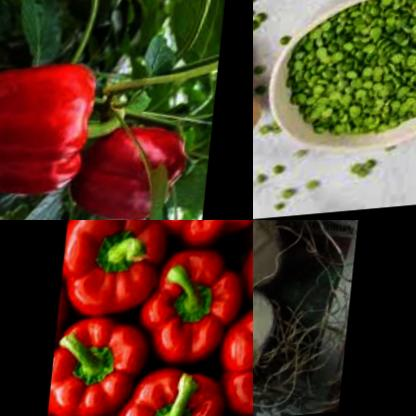bell pepper: (0, 56, 104, 208), (128, 248, 250, 377), (66, 116, 203, 220), (49, 307, 158, 416), (58, 220, 167, 324), (106, 367, 237, 416), (211, 303, 253, 416), (141, 220, 253, 260)
garlic: (253, 274, 314, 405), (253, 220, 315, 297)
peas: (284, 0, 416, 146), (281, 163, 384, 220), (253, 33, 297, 116), (253, 157, 314, 204), (254, 119, 297, 152), (253, 0, 280, 34)
